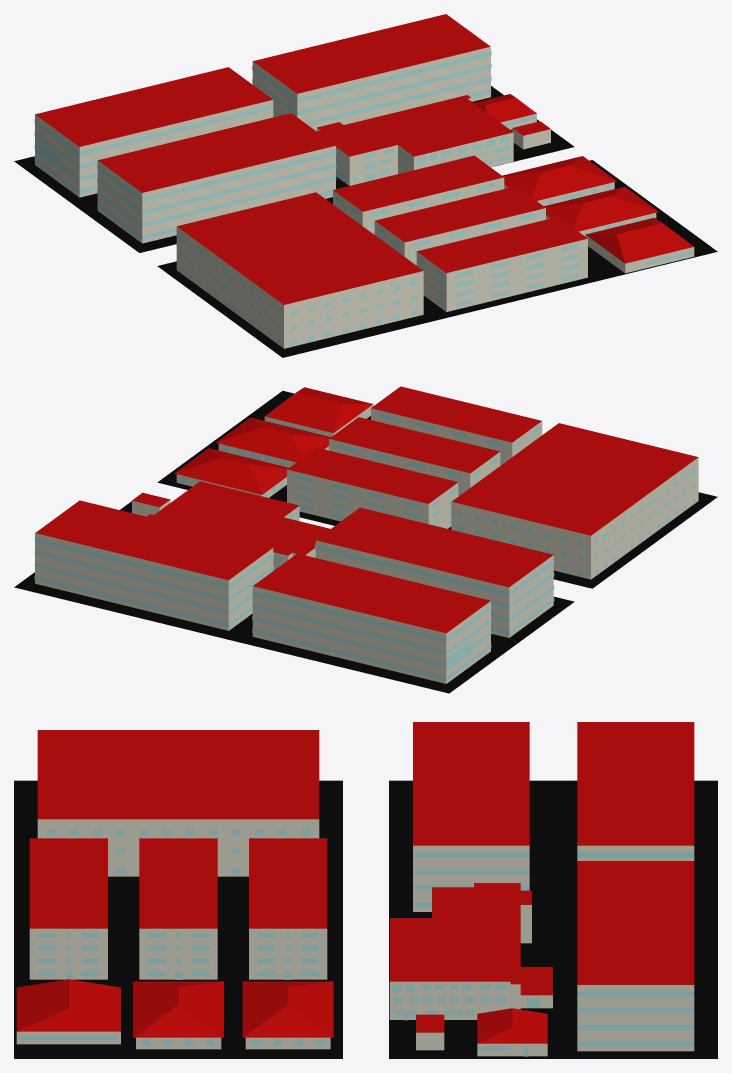
3 views of the same model, one above another, from view 1: azimuth 30°, elevation 25°; view 2: azimuth 150°, elevation 25°; view 3: azimuth 270°, elevation 25° (orthographic). The views are drawn at different scales.
Parts seen in each view (by area): view 1: Roofs, Walls, Windows, Ground; view 2: Roofs, Walls, Windows, Ground; view 3: Roofs, Ground, Walls, Windows.
Part boxes in pixels (left/top/right/bottom): Roofs: left=35, top=14, right=693, bottom=304; Walls: left=35, top=46, right=694, bottom=348; Windows: left=34, top=51, right=692, bottom=345; Ground: left=14, top=86, right=717, bottom=357; Roofs: left=35, top=386, right=698, bottom=633; Walls: left=35, top=404, right=698, bottom=683; Windows: left=34, top=413, right=695, bottom=680; Ground: left=14, top=391, right=717, bottom=693; Roofs: left=16, top=722, right=694, bottom=1043; Ground: left=14, top=780, right=717, bottom=1058; Walls: left=16, top=819, right=694, bottom=1056; Windows: left=20, top=829, right=694, bottom=1056.
Size of the model in its own units: 142 by 15.85 by 152.
